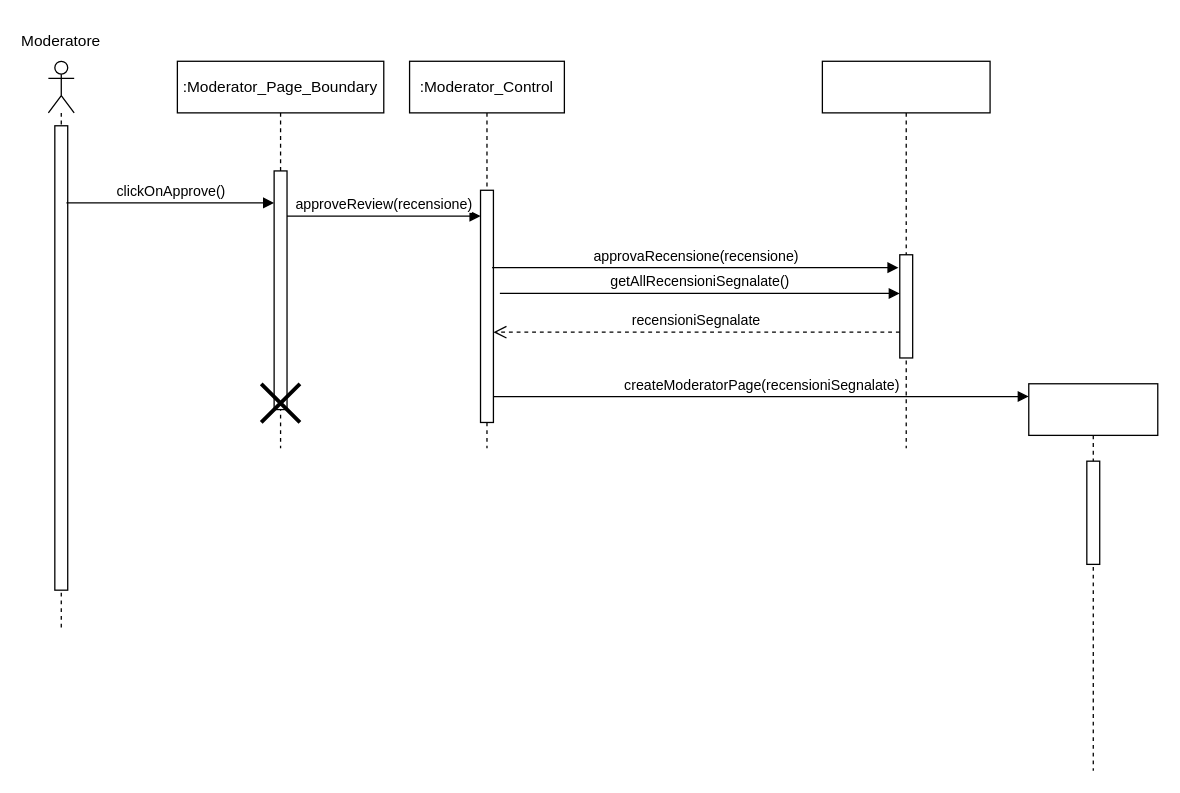
The diagram is 1180 pixels wide and 793 high, and some of its shapes have lost their labels. Here are the shapes that lost their labels. From the top down, the centre of each, then its label:
point (905, 254): :Catalogo_Recensioni
point (1092, 576): :Moderator_Page
